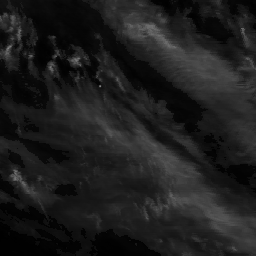Target: (97, 84, 103, 89)
